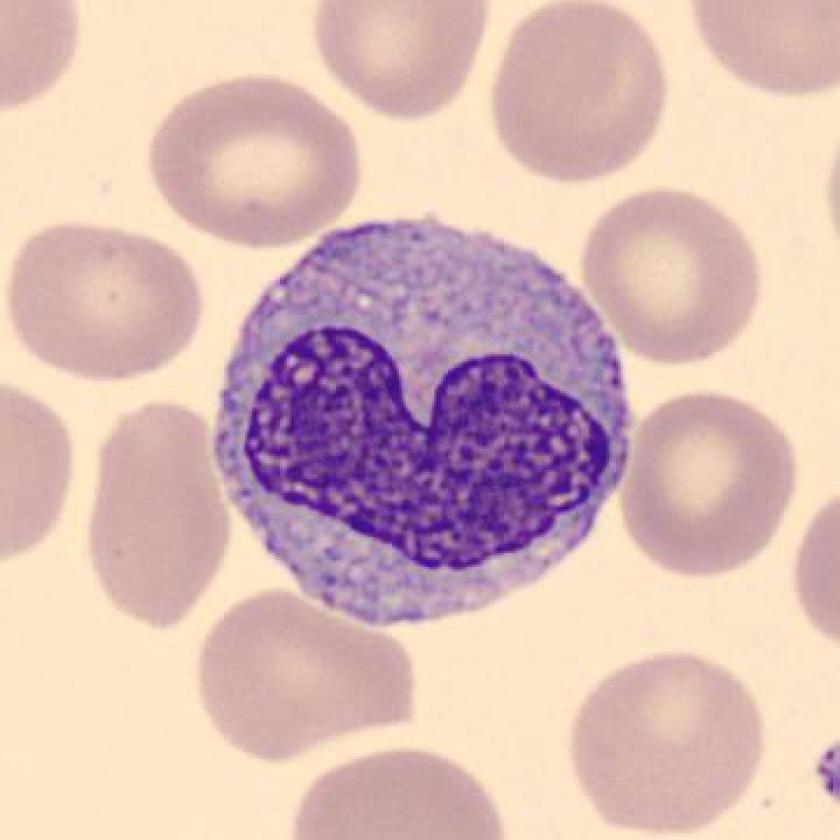monocyte: (204, 195, 650, 642)
